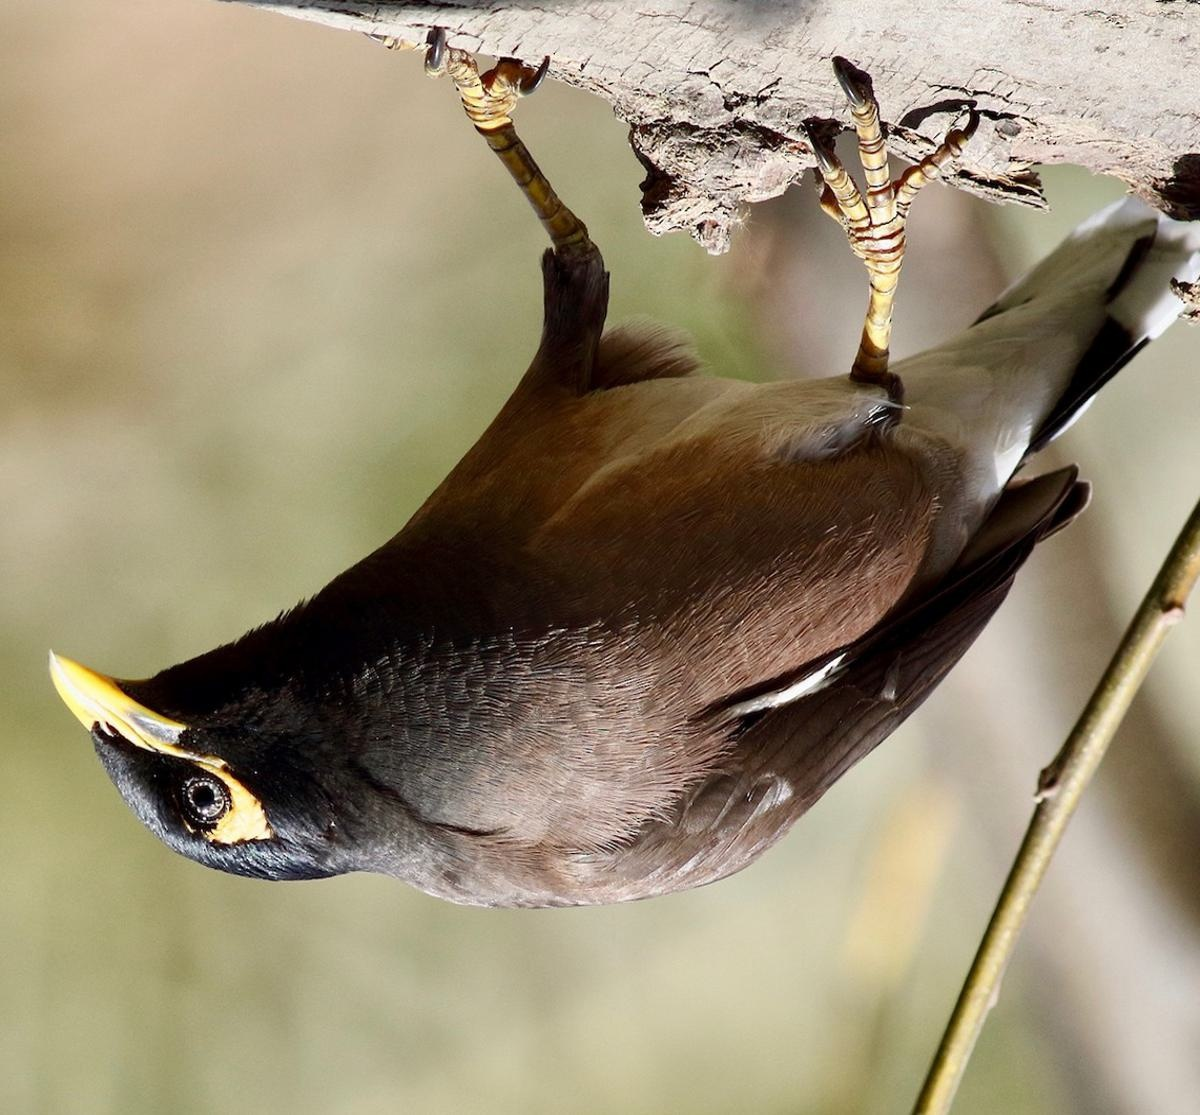myna: (84, 121, 1146, 930)
